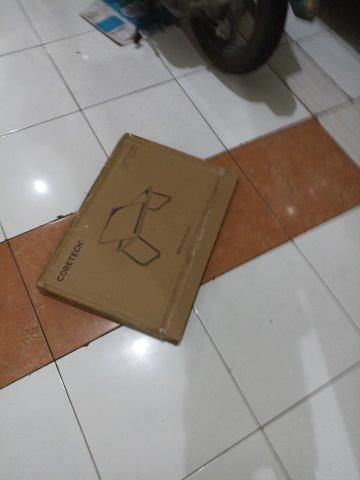kardus: (38, 136, 237, 344)
